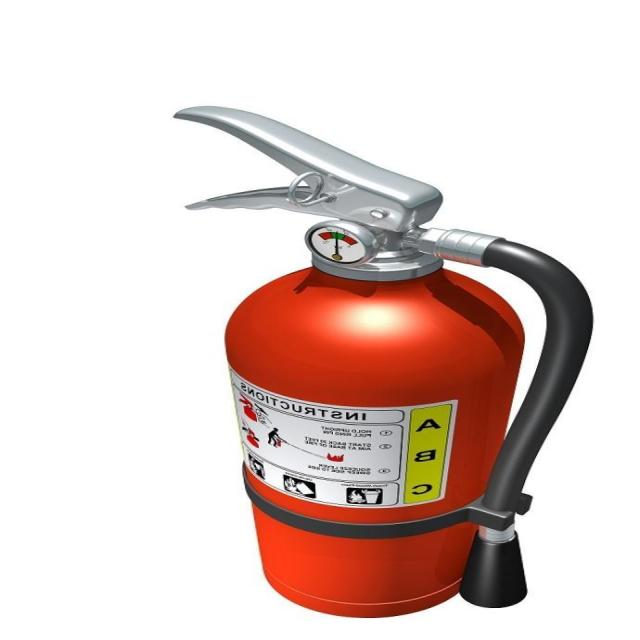fire_extinguisher: (156, 92, 602, 624)
